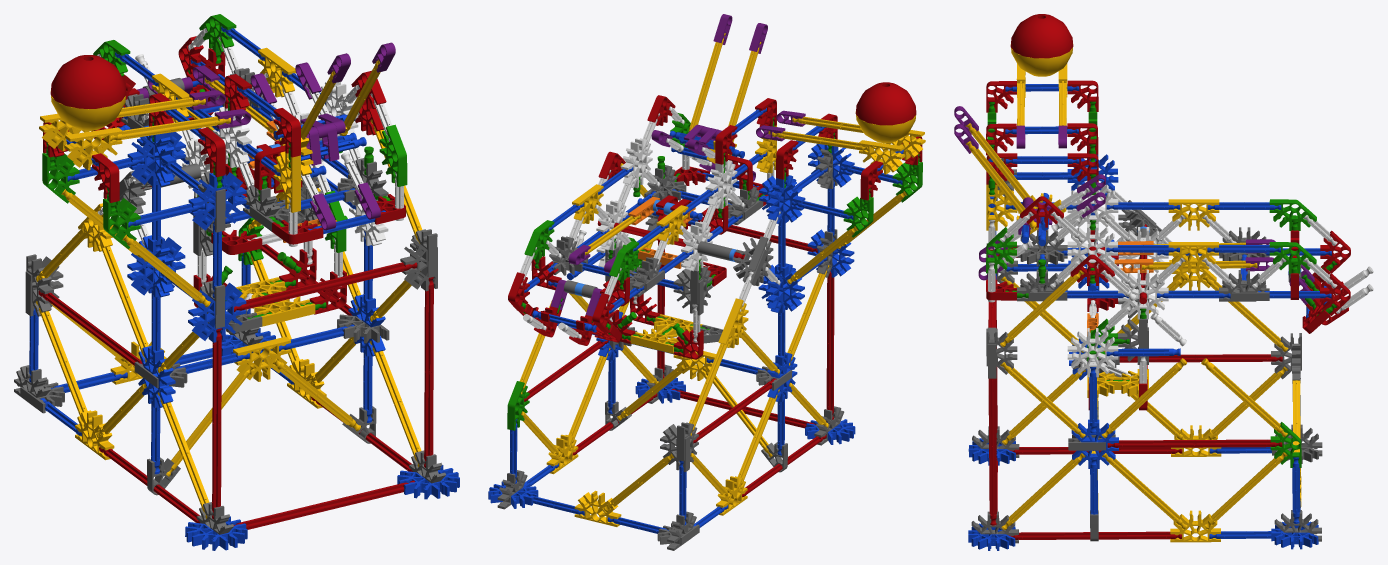
3 views of the same model, side by side, from view 1: azimuth 30°, elevation 25°; view 2: azimuth 150°, elevation 25°; view 3: azimuth 270°, elevation 25° (orthographic). The views are drawn at different scales.
Parts seen in each view (by area): view 1: B1_L07.003, B1_L07.002, B1_L07.004, B1_L07.001, B1_L07.006, B1_L07.005, B1_L07.007; view 2: B1_L07.003, B1_L07.004, B1_L07.002, B1_L07.001, B1_L07.006, B1_L07.005, B1_L07.007, B1_L07; view 3: B1_L07.003, B1_L07.004, B1_L07.002, B1_L07.006, B1_L07.001, B1_L07.005, B1_L07.007, B1_L07.
Boxes of the visible parts, x1,y1,x2,y2 form: B1_L07.003: (36,47,422,518); B1_L07.002: (29,26,459,550); B1_L07.004: (38,36,433,529); B1_L07.001: (14,68,445,534); B1_L07.006: (97,28,403,311); B1_L07.005: (42,14,407,318); B1_L07.007: (137,42,395,230); B1_L07.003: (519,33,925,526); B1_L07.004: (508,82,922,497); B1_L07.002: (488,108,903,533); B1_L07.001: (497,149,844,550); B1_L07.006: (519,106,780,342); B1_L07.005: (507,113,922,430); B1_L07.007: (550,14,805,316); B1_L07: (628,196,695,268); B1_L07.003: (966,44,1301,542); B1_L07.004: (986,14,1350,539); B1_L07.002: (968,84,1331,550); B1_L07.006: (988,184,1373,383); B1_L07.001: (971,158,1322,543); B1_L07.005: (986,101,1337,467); B1_L07.007: (954,106,1314,304); B1_L07: (1087,241,1153,336).
Size of the model in its own units: 2.57 by 3.19 by 3.03.
